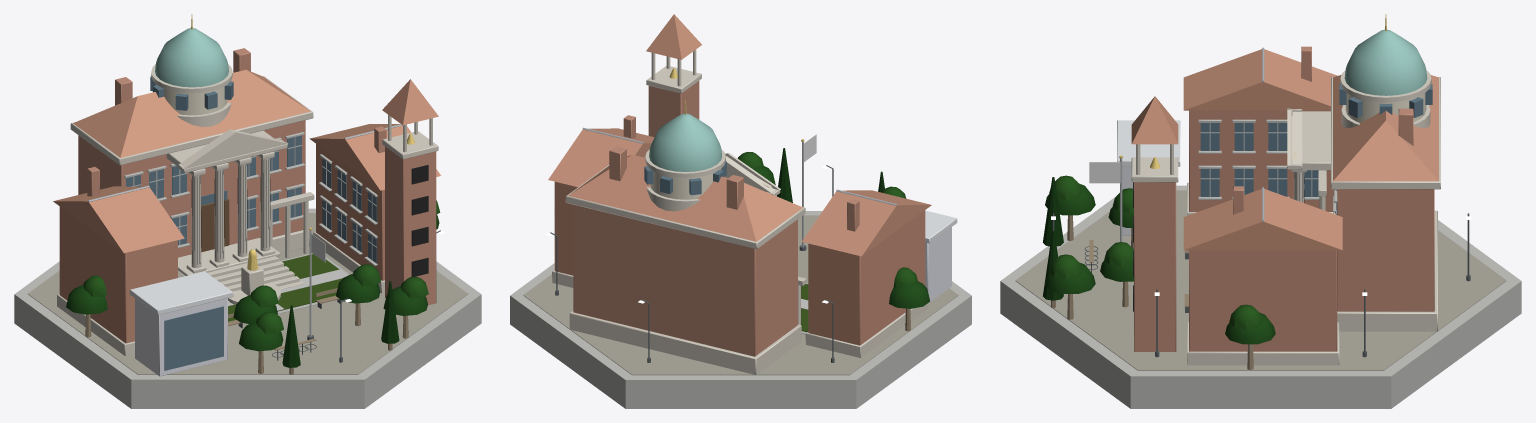
The model's file is university_med.glb.
3 renders of one model, left to right at view 1: azimuth 30°, elevation 25°; view 2: azimuth 150°, elevation 25°; view 3: azimuth 270°, elevation 25°, orthographic. The views are drawn at different scales.
Parts seen in each view (by area): view 1: brick, wall_concrete, stone, roof_tile, pavers, glass, leaf, cladding, copper, dark, wood, turf (+2 smaller); view 2: brick, wall_concrete, roof_tile, stone, pavers, copper, leaf, cladding, plaster, glass, steel_dark, metal; view 3: brick, wall_concrete, roof_tile, pavers, stone, leaf, glass, copper, cladding, wood, plaster, steel_dark (+1 smaller).
Part boxes in pixels (x1,y1,x2,y2): brick: (59,48,436,343); wall_concrete: (14,132,481,408); stone: (57,64,438,355); roof_tile: (53,69,440,253); pavers: (28,213,467,374); glass: (126,76,376,370); leaf: (66,200,440,367); cladding: (129,271,233,376); copper: (155,28,228,87); dark: (191,159,428,276); wood: (85,199,408,374); turf: (228,254,342,321); brick: (554,81,925,356); wall_concrete: (510,211,971,408); roof_tile: (548,14,931,256); stone: (552,49,927,375); pavers: (523,215,958,375); copper: (649,113,722,171); leaf: (737,148,930,308); cladding: (925,210,957,303); plaster: (650,169,721,199); glass: (644,161,726,195); steel_dark: (550,165,834,362); metal: (582,127,897,246); brick: (1134,46,1434,351); wall_concrete: (1000,119,1521,408); roof_tile: (1131,49,1438,250); pavers: (1015,190,1506,370); stone: (1131,70,1440,365); leaf: (1043,175,1275,344); glass: (1200,84,1432,214); copper: (1344,29,1427,95); cladding: (1117,120,1180,235); wood: (1051,212,1335,369); plaster: (1345,93,1426,122); steel_dark: (1052,213,1470,357).
Bounding box in the file's own units: 22.34 × 15.6 × 24.6.
